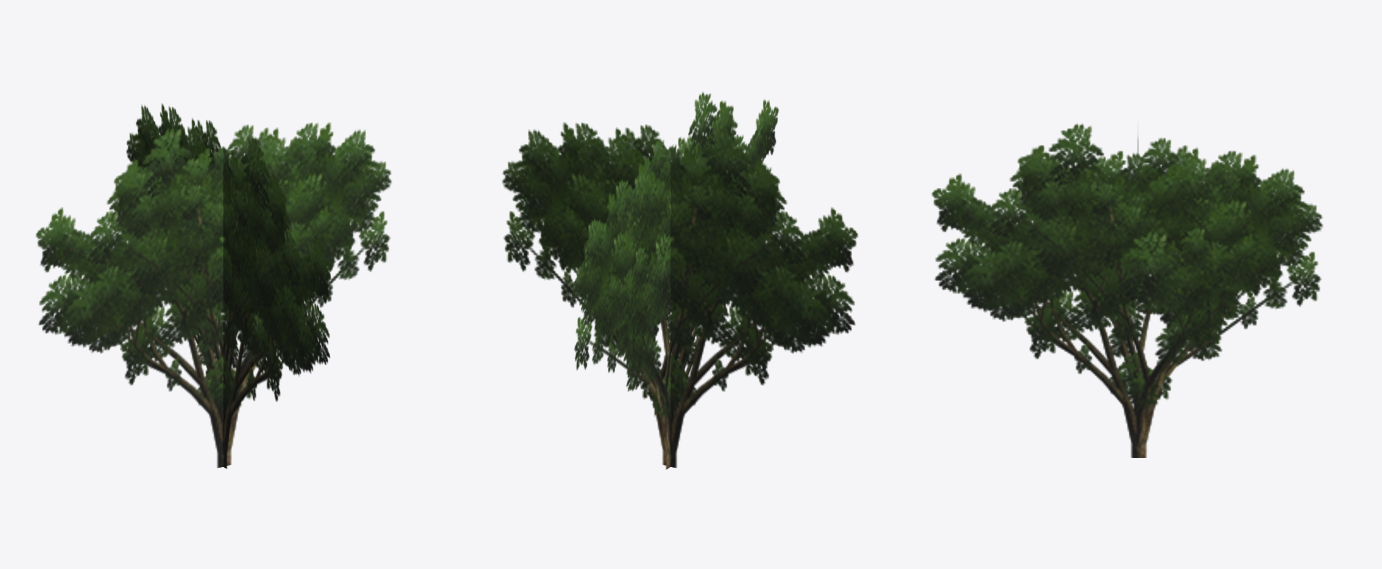
File: lukoutree.glb
3 views of the same model, side by side, from view 1: azimuth 30°, elevation 25°; view 2: azimuth 150°, elevation 25°; view 3: azimuth 270°, elevation 25° (orthographic). The views are drawn at different scales.
Visible parts, largest first — view 1: SM_Japanese_Angelica; view 2: SM_Japanese_Angelica; view 3: SM_Japanese_Angelica.
Part boxes in pixels (x1,y1,x2,y2): SM_Japanese_Angelica: [35, 103, 391, 468]; SM_Japanese_Angelica: [502, 92, 858, 469]; SM_Japanese_Angelica: [931, 123, 1322, 457].
Size of the model in its own units: 19.01 by 15.82 by 19.01.
1 material, 1 textured.
